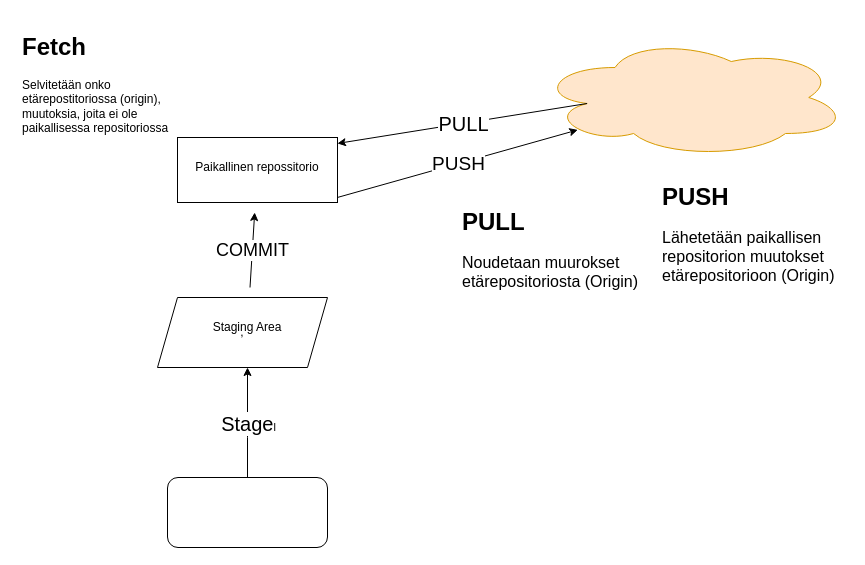
This 865x565 diagram has some shape labels left out. The centre of each missing label's shape, as x and y in pixels:
"Kehitysympäristö (visual studio code)" belongs at point 247,512.
"ORIGIN (Github)" belongs at point 692,97.
